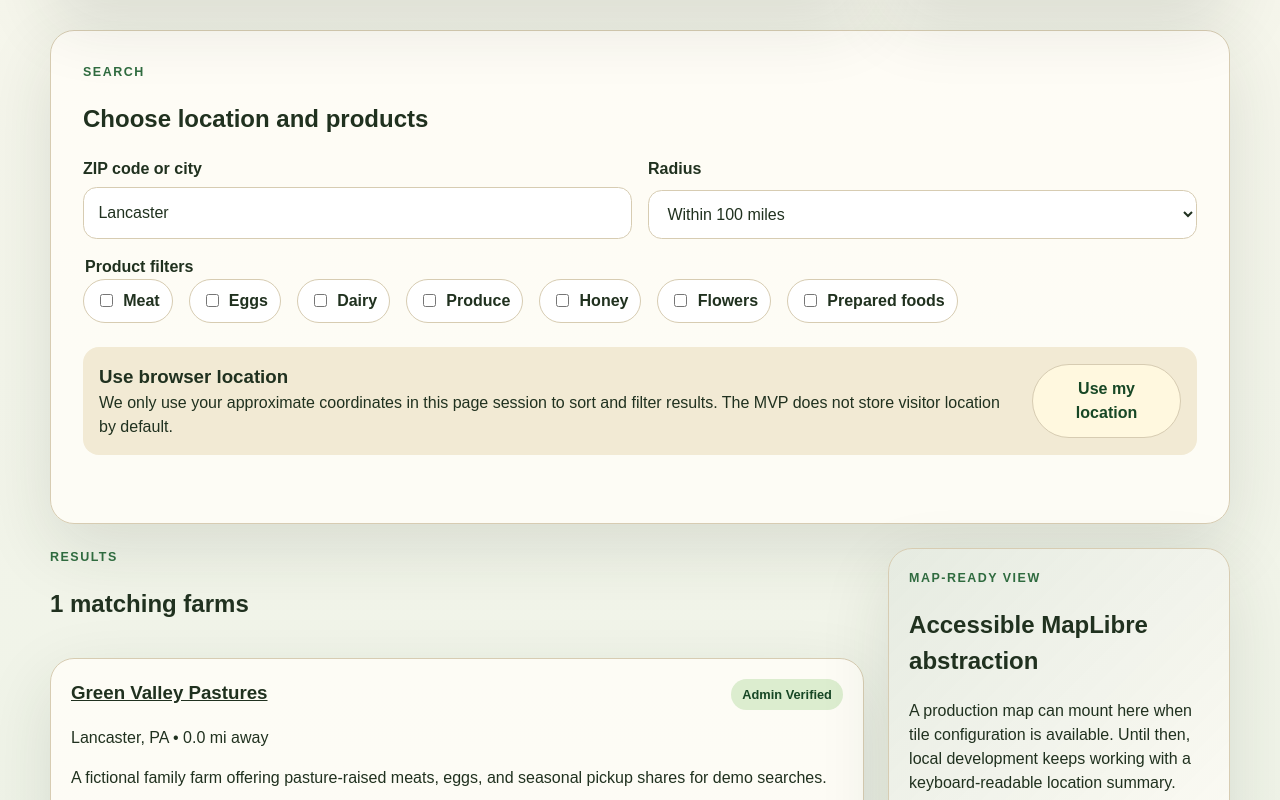
Test: FarmFinderApp › shows a clear geolocation-denied state without blocking ZIP search
(page scrolled)
Click the button "Use my location".
click(1107, 401)  # box [1032,364,1181,438]
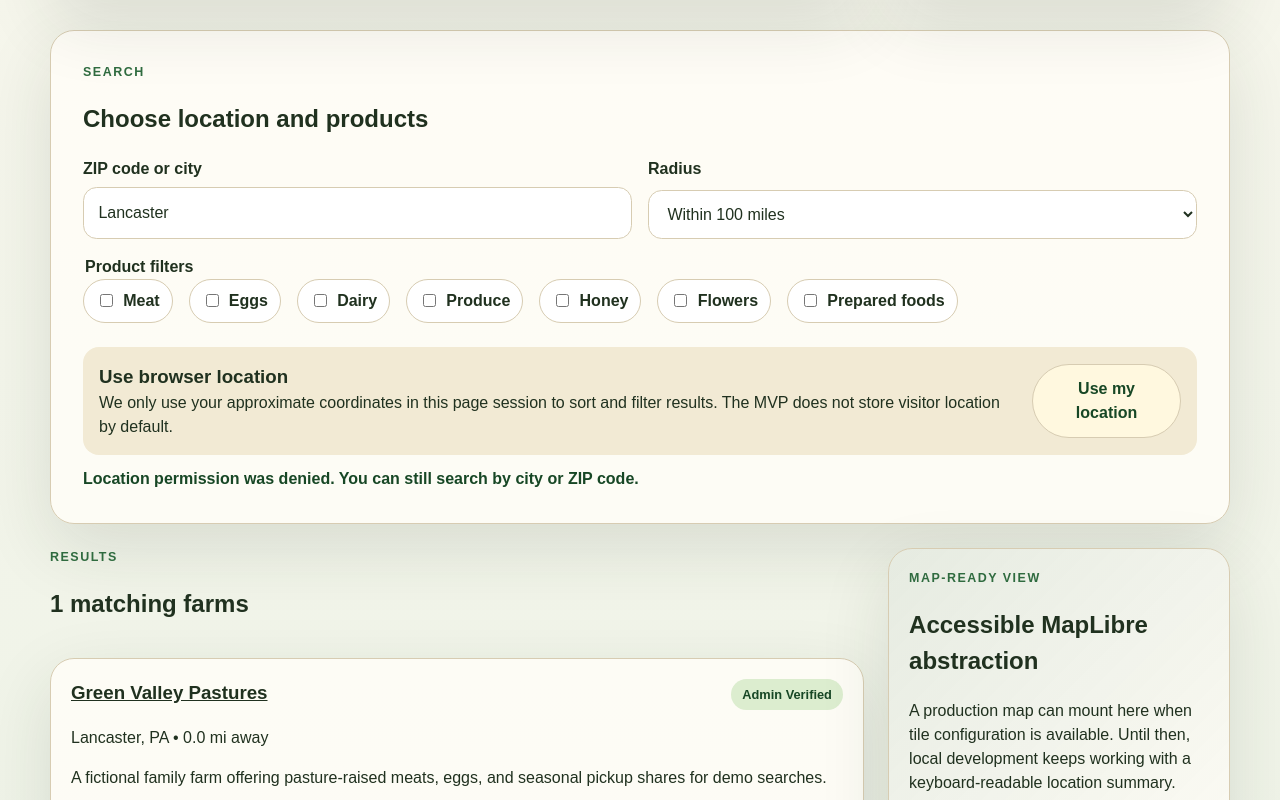
Expected: the field labelled "ZIP code or city" is enabled, [83,188,632,239]
Expected: the text "Location permission was denied. You can still search by city or ZIP code." is shown, [83,470,639,487]
